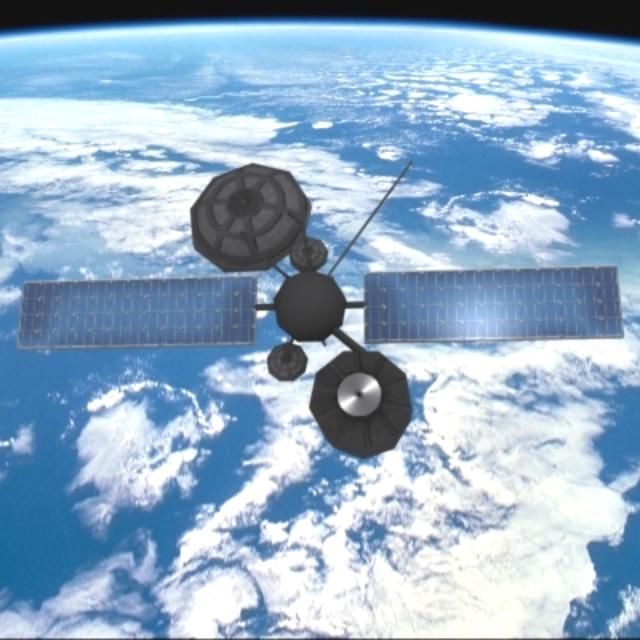satellite: (18, 157, 627, 470)
